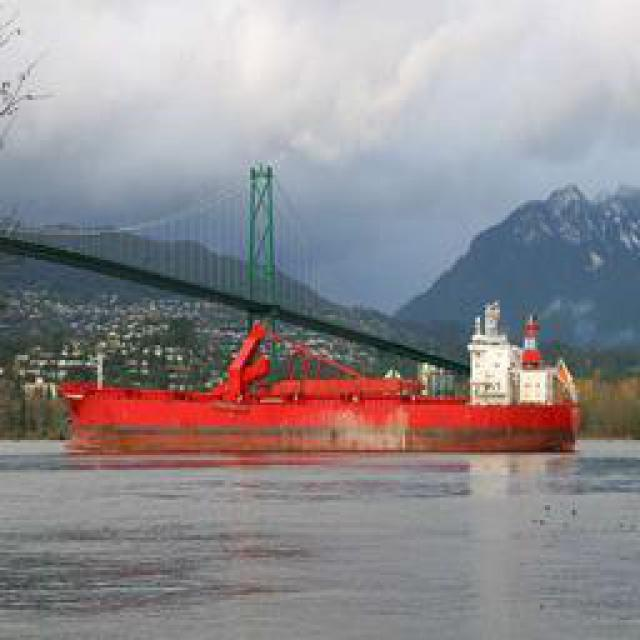Ship: (61, 317, 579, 460)
